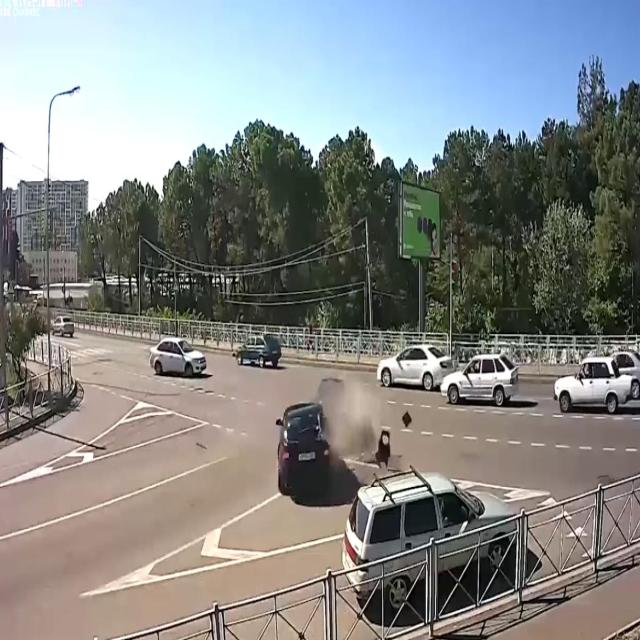accident: (273, 370, 391, 506)
non_accident: (373, 336, 523, 416), (550, 345, 640, 423)
